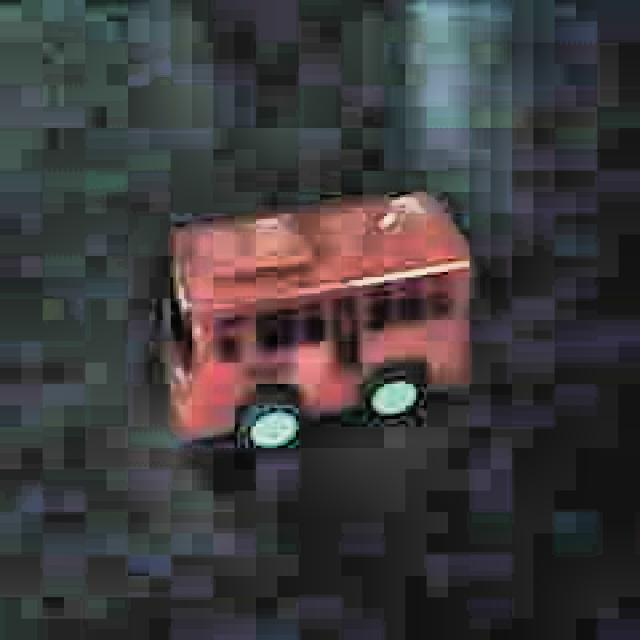bus: (154, 186, 471, 460)
